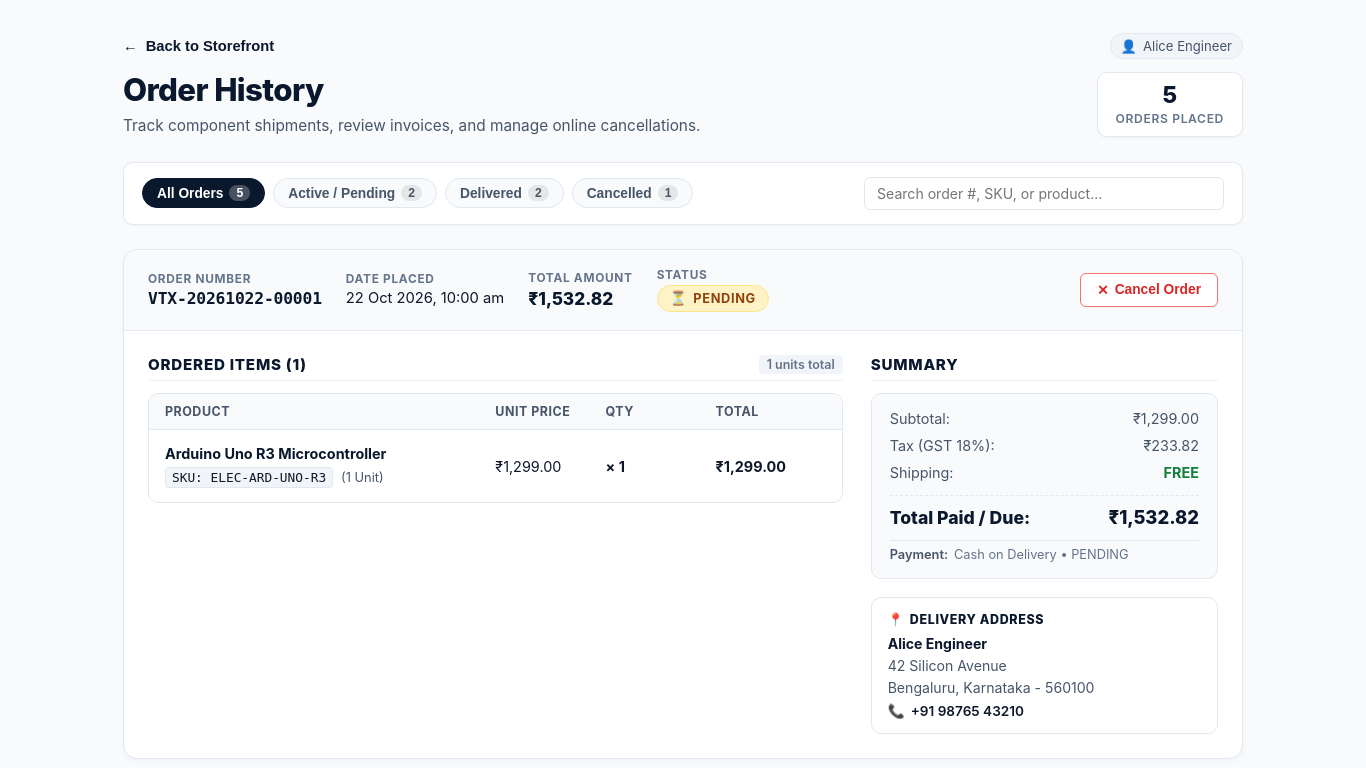
Test: OrdersPage Component › 8. Handles cancellation API errors inside modal without crashing
This screenshot has width=1366, height=768.
What coordinates should you click on to do the following:
click the button with test id "cancel-order-btn-VTX-20261022-00001"
I would click on:
 (1149, 290)
Its box is [1080,273,1218,307].
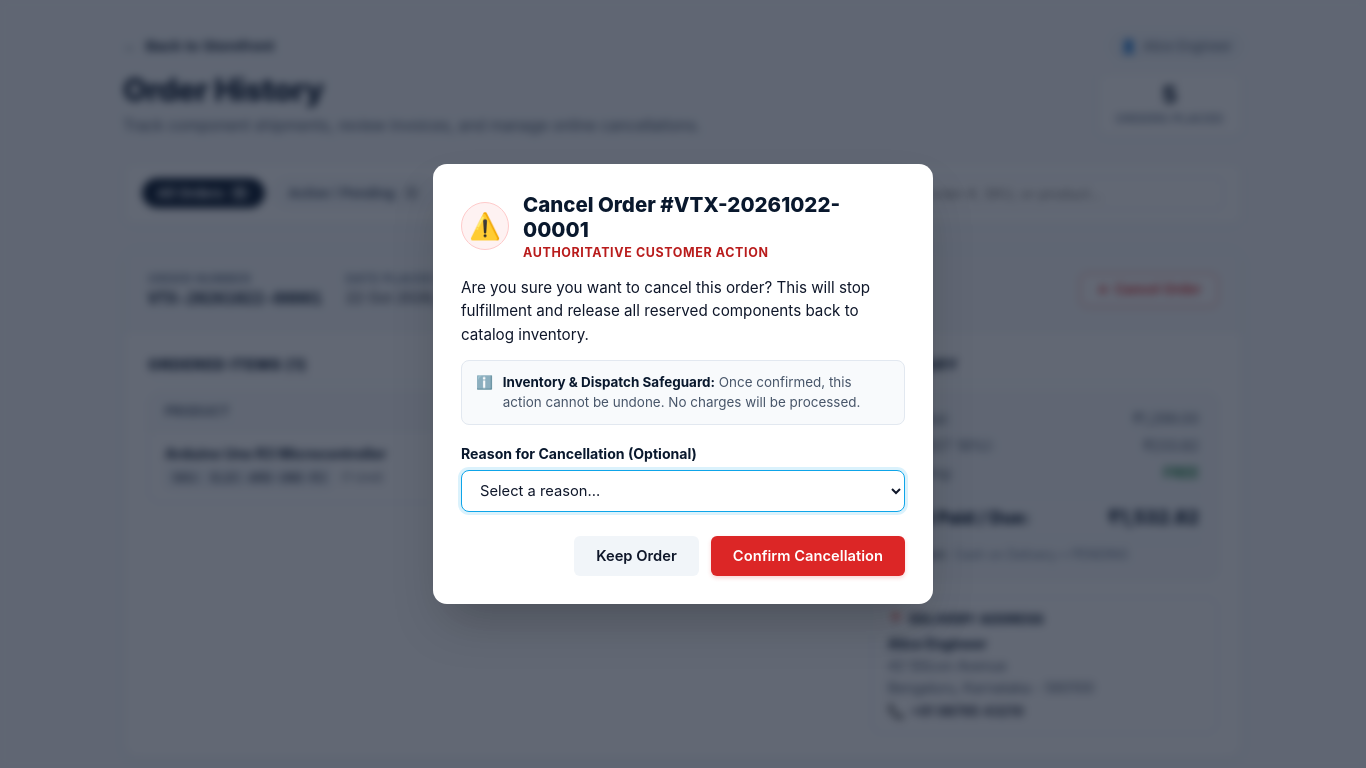
What coordinates should you click on to do the following:
click the button with test id "confirm-cancel-btn"
I would click on:
 (808, 556)
Its box is [711,536,905,576].
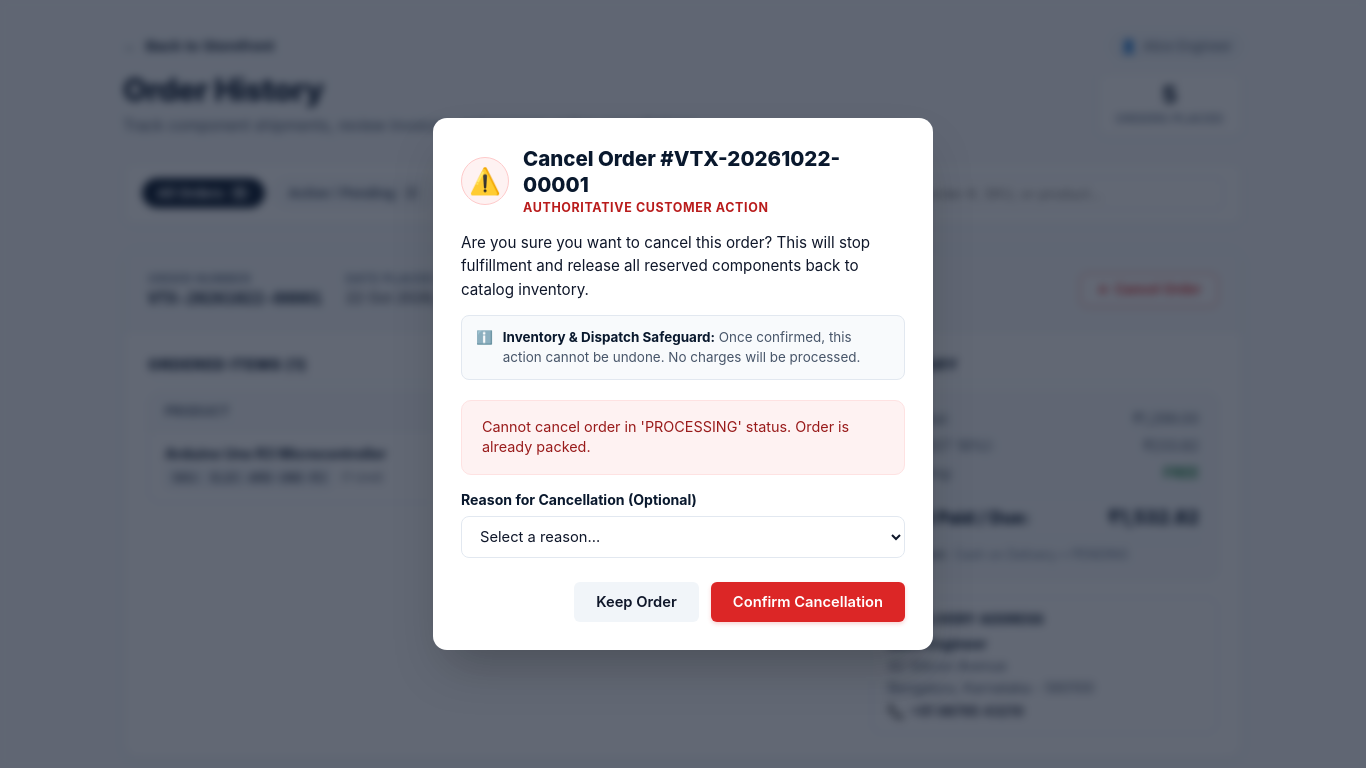
Expected: the message "Cannot cancel order in 'PROCESSING' status. Order is already packed." is shown, [461,400,905,475]
Expected: the text "Cannot cancel order in 'PROCESSING' status" is shown, [482,418,849,456]
